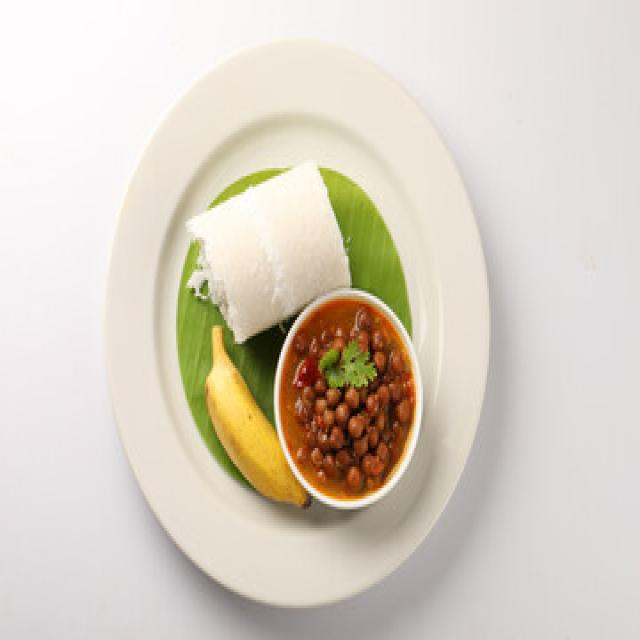BANANA: (204, 320, 310, 509)
CURRY: (280, 300, 416, 498)
PUTTU: (178, 160, 358, 337)
